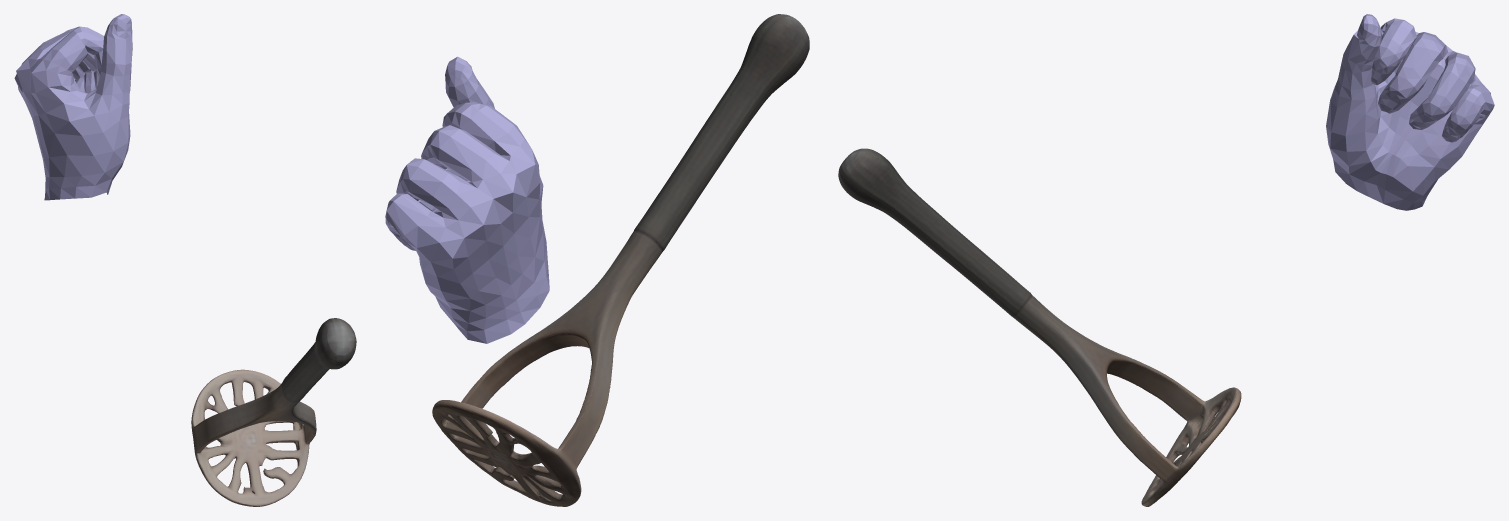
File: frame_0055_source_000055_hand_object.glb
3 views of the same model, side by side, from view 1: azimuth 30°, elevation 25°; view 2: azimuth 150°, elevation 25°; view 3: azimuth 270°, elevation 25° (orthographic). The views are drawn at different scales.
Visible parts, largest first — view 1: world; view 2: world; view 3: world.
Boxes of the visible parts, box(x1,y1,x2,y2) form: world: box(14, 14, 356, 506); world: box(385, 14, 809, 506); world: box(838, 14, 1494, 506).
Size of the model in its own units: 0.1198 by 0.2826 by 0.3618.
